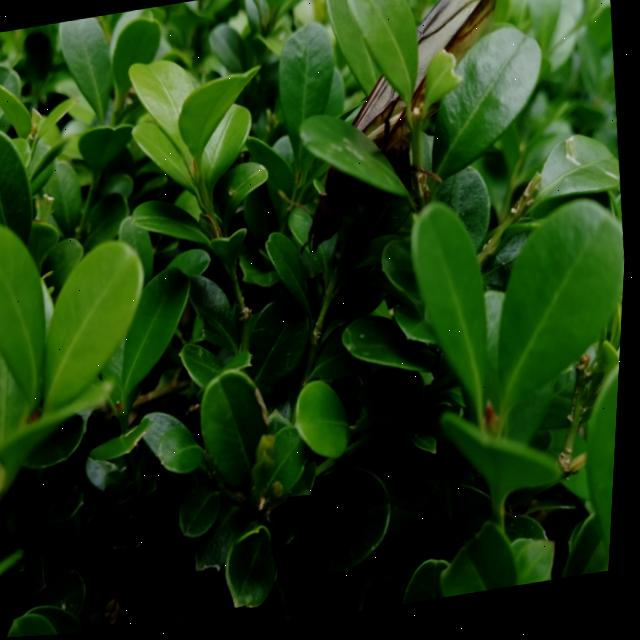Alive-Female-Alate: (255, 0, 529, 280)
